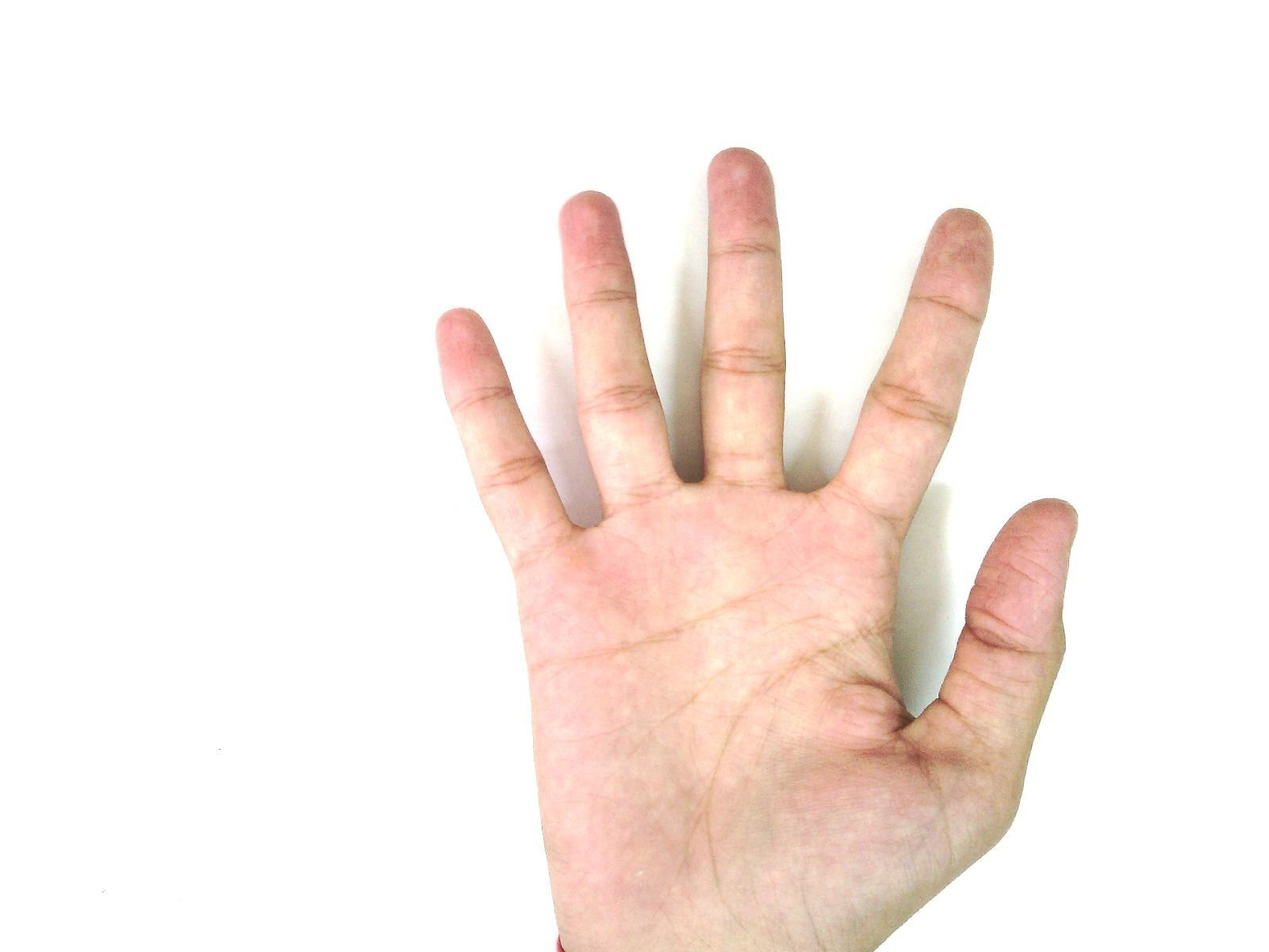open_palm: (431, 145, 1080, 951)
